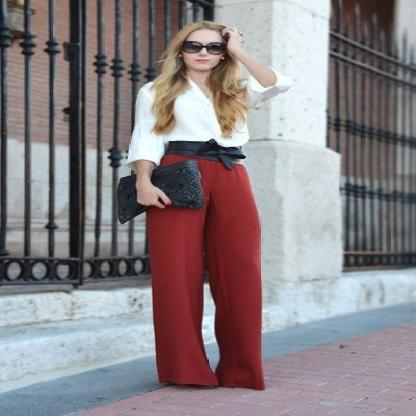bag: (113, 157, 203, 219)
pants: (145, 153, 264, 390)
shirt: (124, 75, 272, 164)
sunglass: (176, 36, 216, 58)
